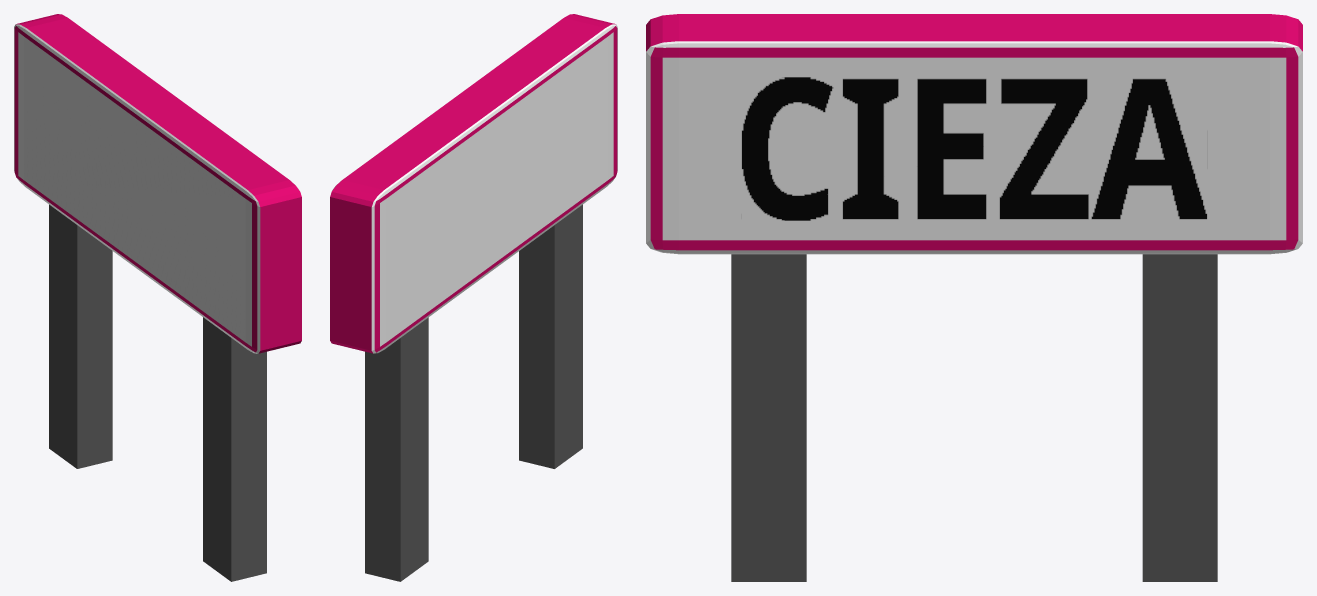
The model's file is CartelCieza.fbx.
3 views of the same model, side by side, from view 1: azimuth 30°, elevation 25°; view 2: azimuth 150°, elevation 25°; view 3: azimuth 270°, elevation 25° (orthographic). The views are drawn at different scales.
Visible parts, largest first — view 1: Cube; view 2: Cube; view 3: Cube.
Boxes of the visible parts, bbox=[...] form: Cube: bbox=[14, 14, 301, 581]; Cube: bbox=[330, 14, 617, 581]; Cube: bbox=[646, 14, 1302, 581].
Size of the model in its own units: 26.8 by 225 by 246.
